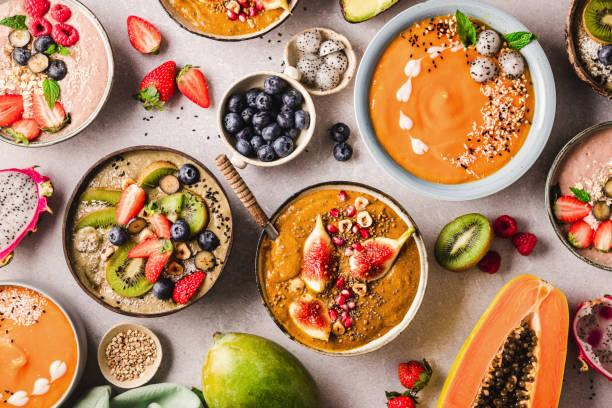Braised Crucian Carp: (354, 1, 551, 204), (254, 180, 422, 355), (61, 146, 230, 317), (2, 0, 114, 147), (0, 282, 86, 405)
